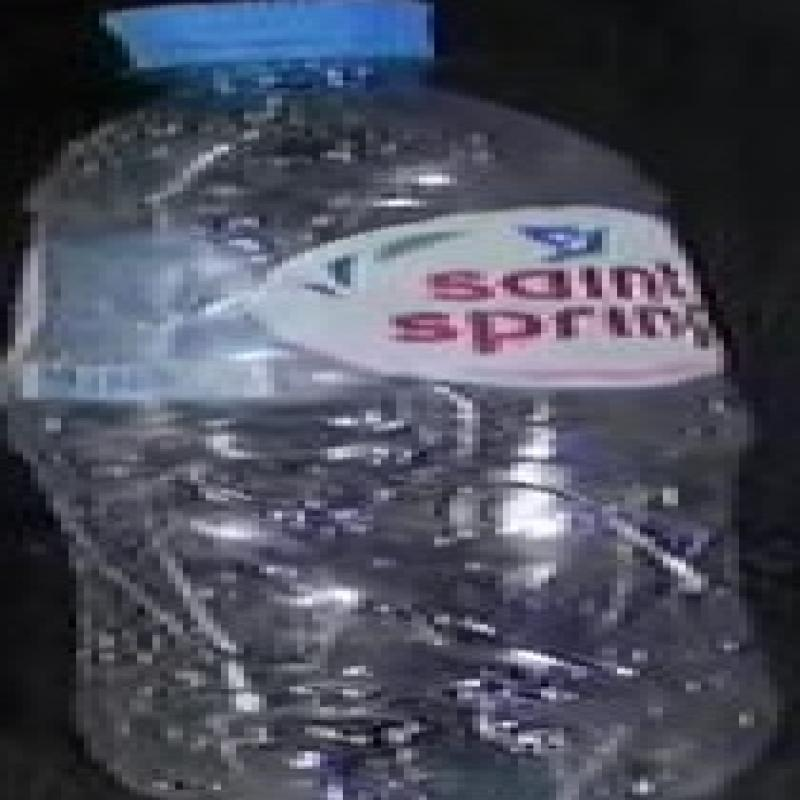botella: (7, 0, 800, 800)
